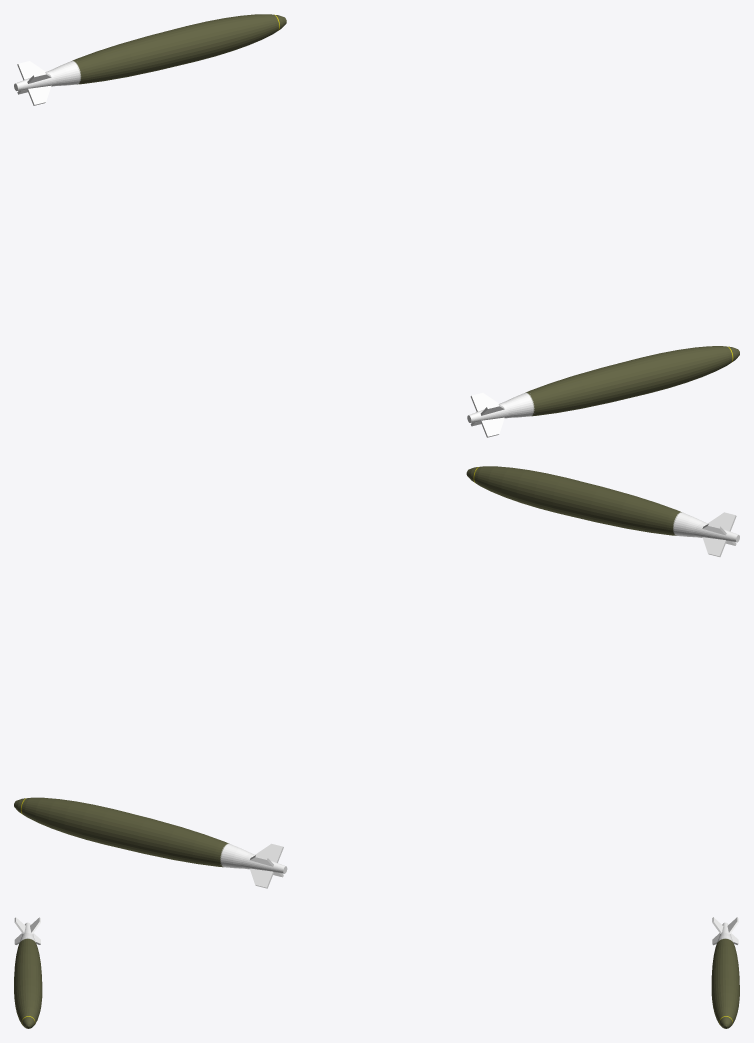
Rendered from gbu32fa18e16.glb.
3 renders of one model, top to bottom at view 1: azimuth 30°, elevation 25°; view 2: azimuth 150°, elevation 25°; view 3: azimuth 270°, elevation 25°, orthographic. The views are drawn at different scales.
Parts seen in each view (by area): view 1: 球.002, 球.003; view 2: 球.003, 球.002; view 3: 球.003, 球.002.
Part boxes in pixels (x1,y1,x2,y2): 球.002: (467,346,739,437); 球.003: (14,14,286,105); 球.003: (14,797,287,888); 球.002: (466,466,739,556); 球.003: (711,917,739,1028); 球.002: (14,917,42,1028).
Bounding box in the file's own units: 3.41 × 0.4018 × 10.26.
Materials: 2 (1 with a texture image).
